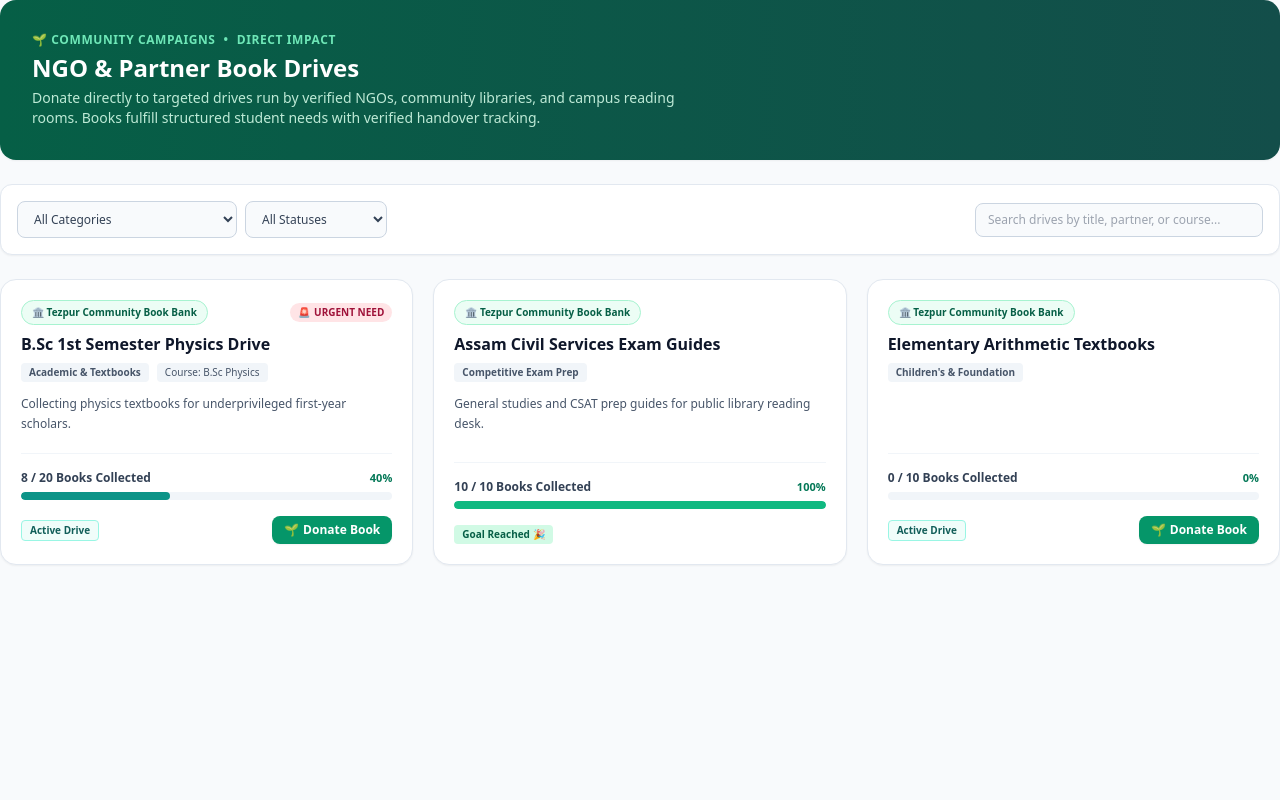
Test case: CampaignNeedsView Component (CS-014 NGO Book Needs) › safely filters needs when searching even if description or course is null
# Typing in search input should not crash on null description
Type "arithmetic" into the field with test id "search-campaign-needs" at (1119,220), box [975,202,1263,236]
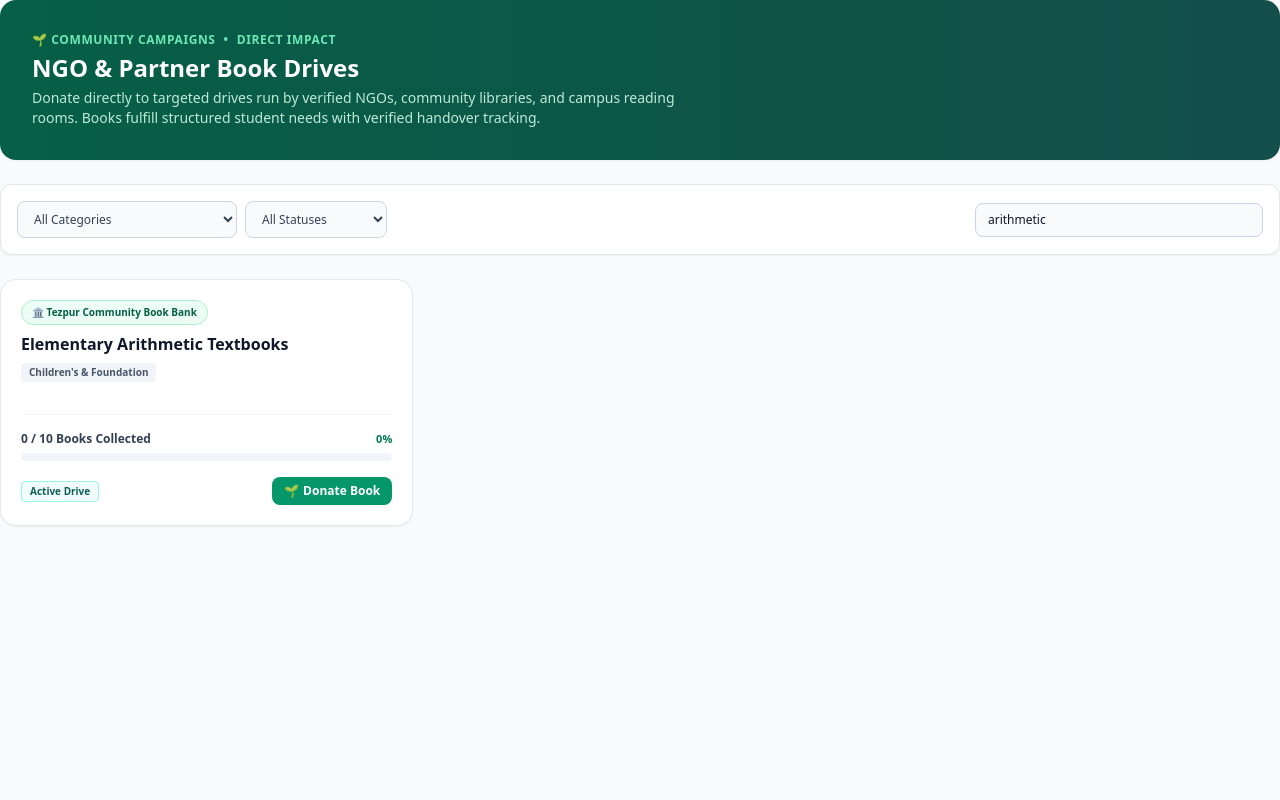
Expected: the heading "Elementary Arithmetic Textbooks" is shown, [21,333,288,355]
Result: the heading "B.Sc 1st Semester Physics Drive" is gone
